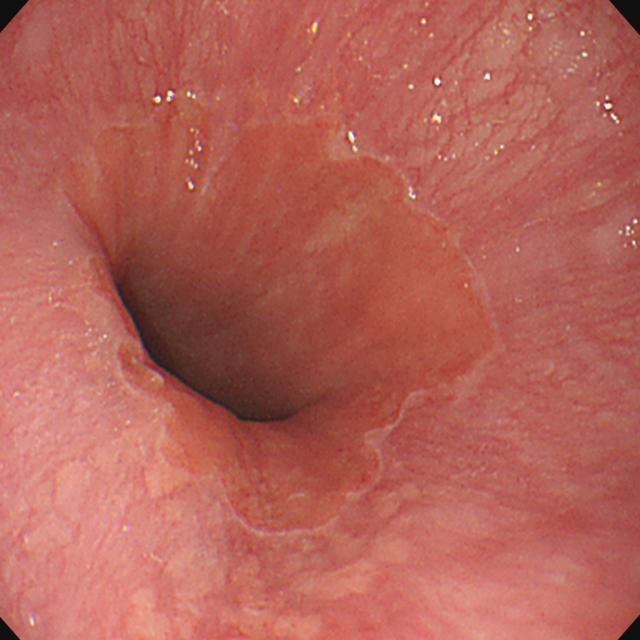I: (45, 70, 505, 558)
